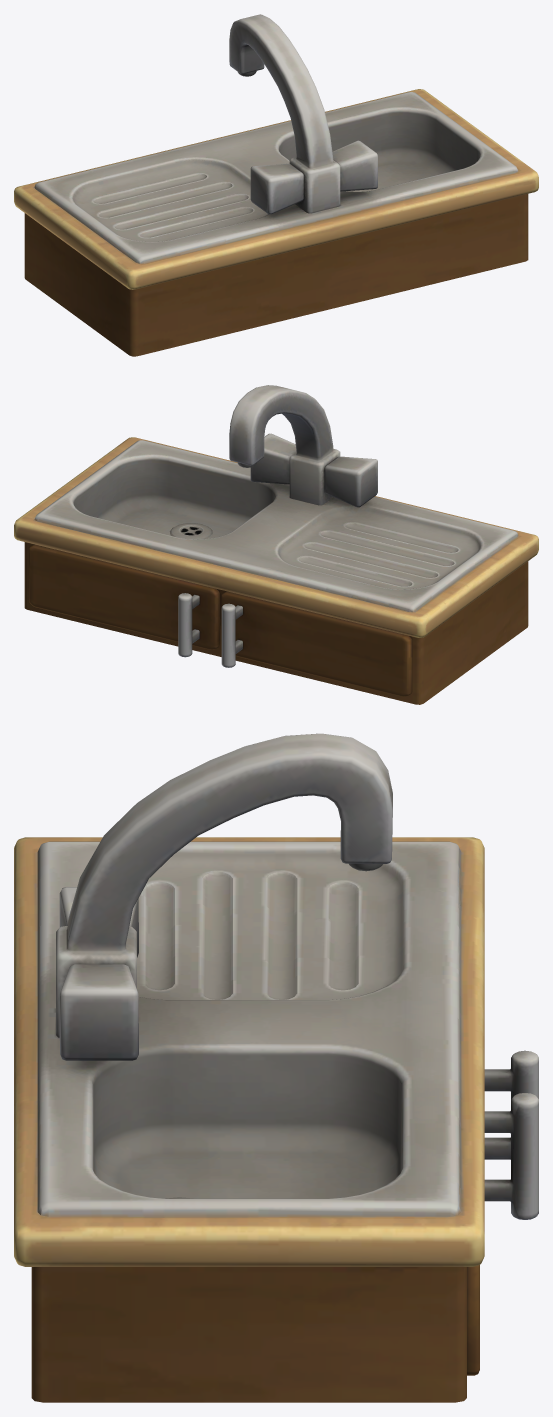
File: Sink2.fbx
3 views of the same model, one above another, from view 1: azimuth 30°, elevation 25°; view 2: azimuth 150°, elevation 25°; view 3: azimuth 270°, elevation 25° (orthographic). The views are drawn at different scales.
Visible parts, largest first — view 1: m_sk_sink_01; view 2: m_sk_sink_01; view 3: m_sk_sink_01.
Boxes of the visible parts, bbox=[...] form: m_sk_sink_01: bbox=[14, 14, 538, 356]; m_sk_sink_01: bbox=[14, 385, 538, 704]; m_sk_sink_01: bbox=[14, 733, 538, 1402].
Size of the model in its own units: 240 by 131 by 134.
